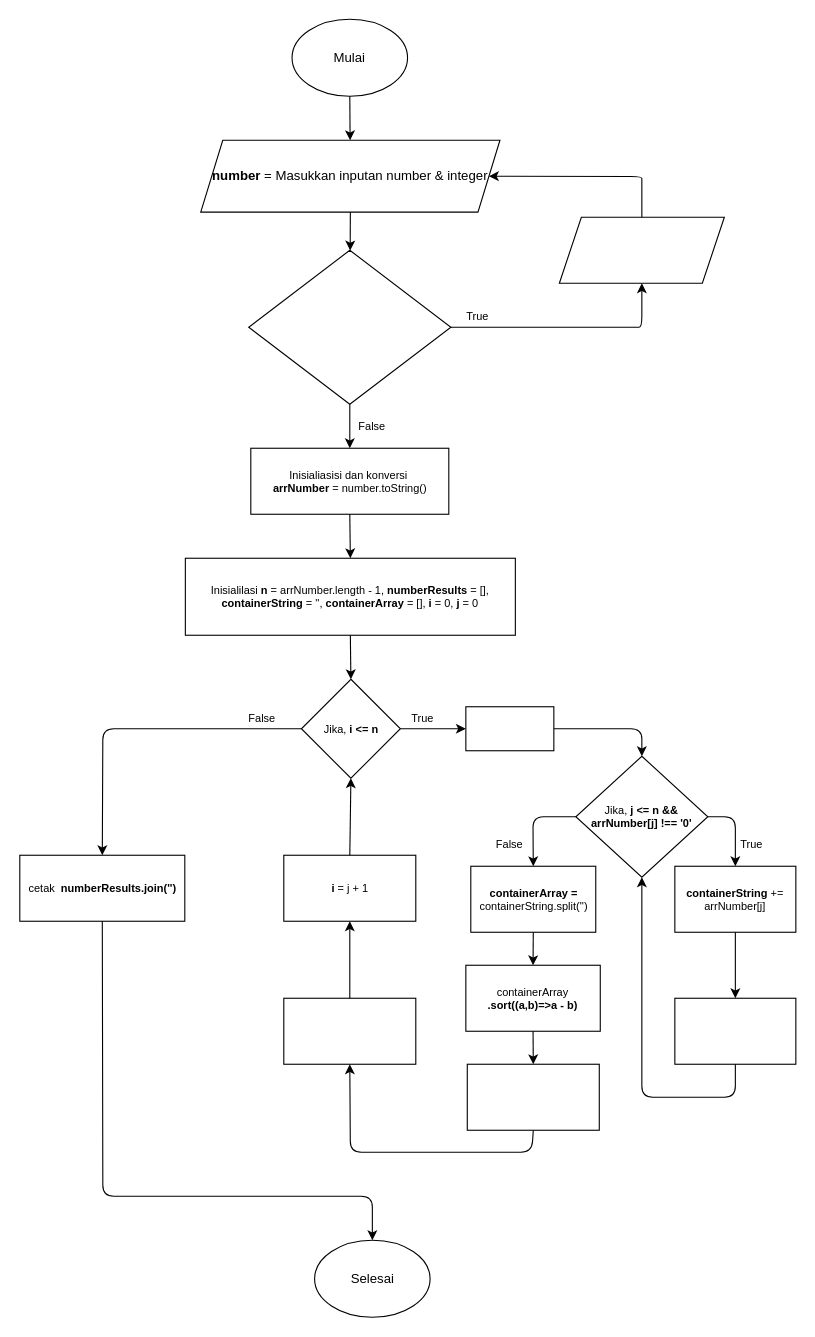
The diagram is 815 pixels wide and 1337 high, and some of its shapes have lost their labels. The shapes that lost their labels are listed below. From the top down, each one's centre as x and y in pixels, then its label:
(x=641, y=249): cetak "input harus berupa number dan bilangan bulat
(x=349, y=326): typeof (number) !==''number" && Number.isInteger (number) !== false
(x=509, y=728): j = i
(x=349, y=1030): containerString = '' containerArray = []
(x=735, y=1030): j++
(x=532, y=1096): containerResults .push(...containerArray)
